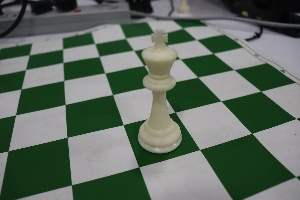white_king: (120, 19, 190, 158)
